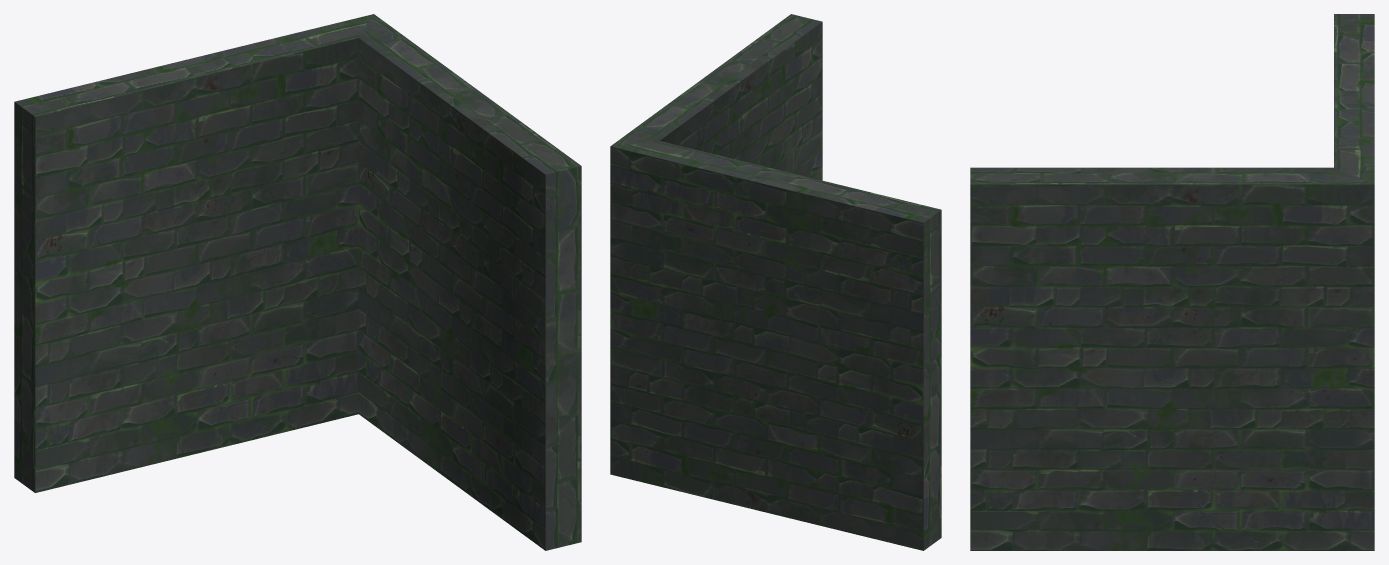
Rendered from innerCornerBig.fbx.
3 views of the same model, side by side, from view 1: azimuth 30°, elevation 25°; view 2: azimuth 150°, elevation 25°; view 3: azimuth 270°, elevation 25° (orthographic). The views are drawn at different scales.
Visible parts, largest first — view 1: innerCornerBig; view 2: innerCornerBig; view 3: innerCornerBig.
Boxes of the visible parts, x1,y1,x2,y2 form: innerCornerBig: (14, 14, 581, 550); innerCornerBig: (610, 14, 941, 550); innerCornerBig: (970, 14, 1374, 550).
Bounding box in the file's own units: 400 × 400 × 400.
Materials: 1 (1 with a texture image).
